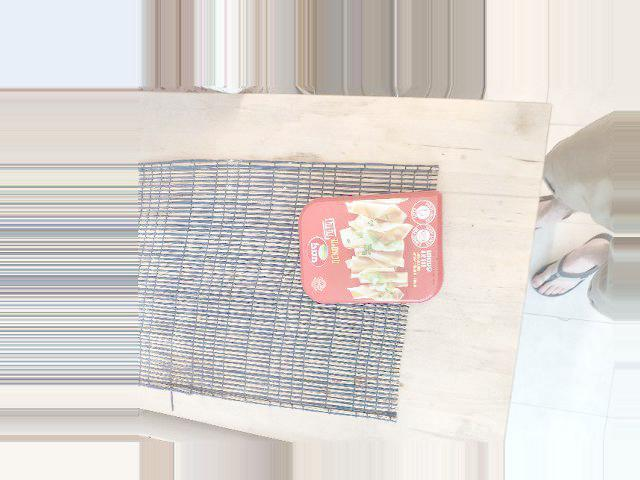cheese: (261, 225, 389, 408)
